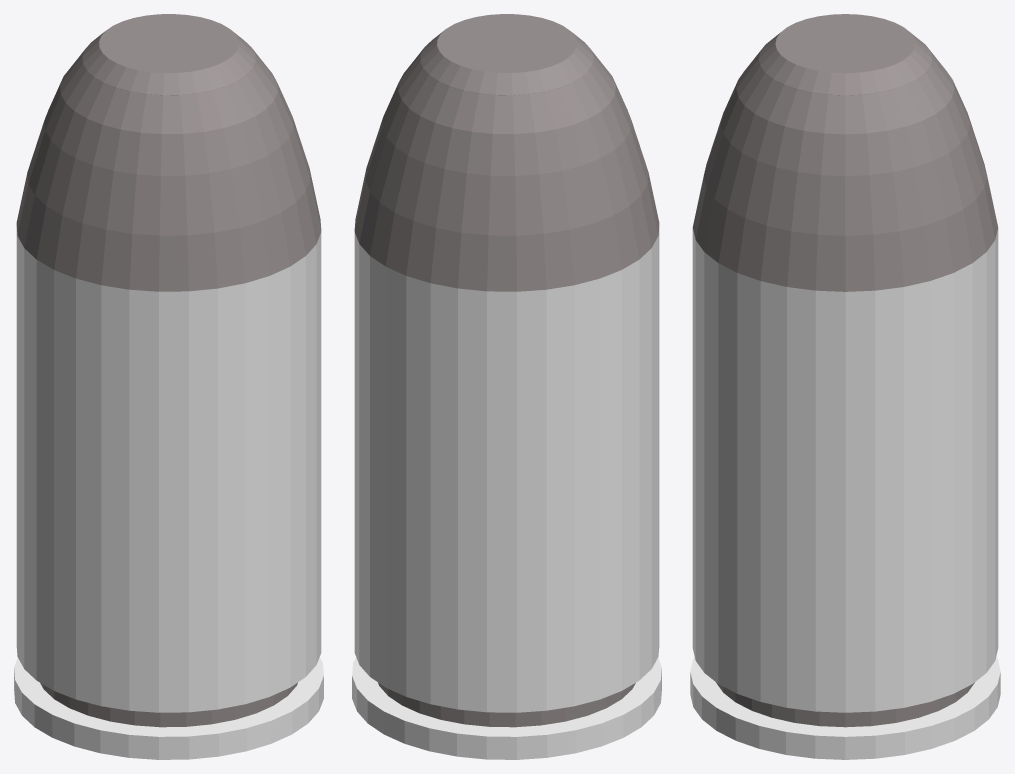
Rendered from RevolverBullet.glb.
3 views of the same model, side by side, from view 1: azimuth 30°, elevation 25°; view 2: azimuth 150°, elevation 25°; view 3: azimuth 270°, elevation 25° (orthographic).
Visible parts, largest first — view 1: Revolver Bullet; view 2: Revolver Bullet; view 3: Revolver Bullet.
Boxes of the visible parts, x1=… form: Revolver Bullet: x1=14, y1=14, x2=323, y2=759; Revolver Bullet: x1=352, y1=14, x2=661, y2=759; Revolver Bullet: x1=690, y1=14, x2=1000, y2=759.
Size of the model in its own units: 0.6096 by 1.41 by 0.6096.
1 material, 1 textured.
